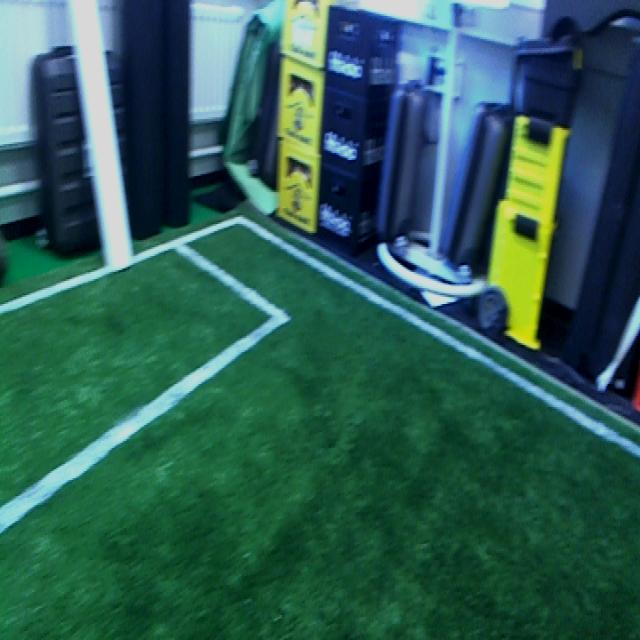goalpost: (70, 0, 139, 277)
